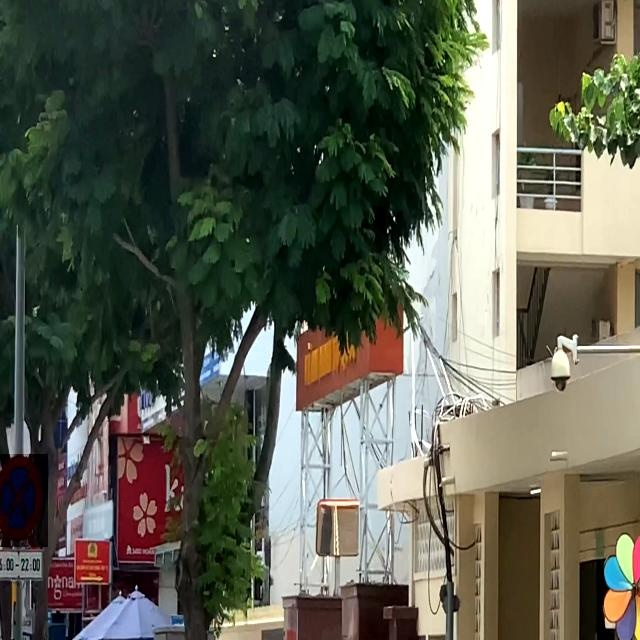bien_cam: (0, 454, 48, 547)
